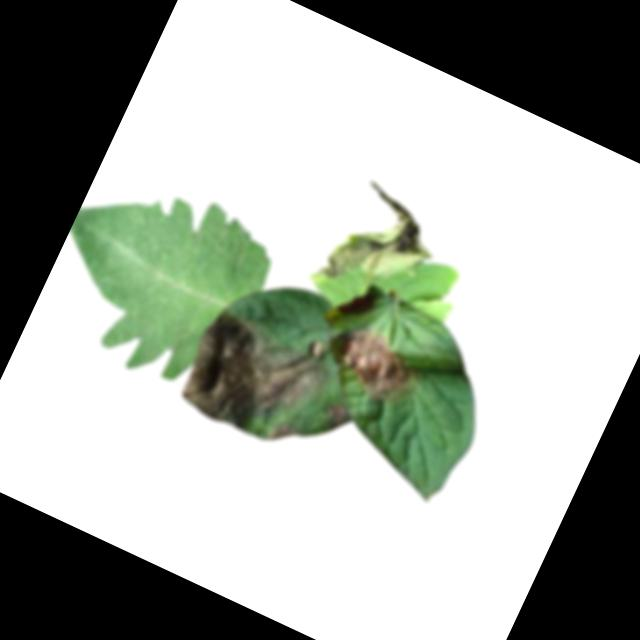Late_blight: (171, 302, 340, 460), (317, 177, 452, 316), (327, 320, 426, 407), (265, 418, 304, 452), (318, 397, 354, 433), (304, 336, 329, 361)
healthy: (28, 151, 292, 407)
